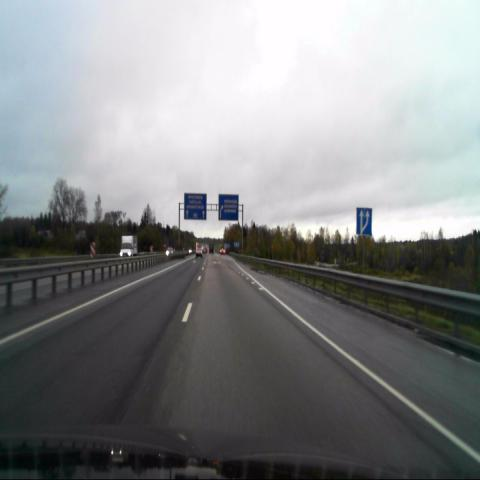5_15_3: (356, 207, 372, 235)
